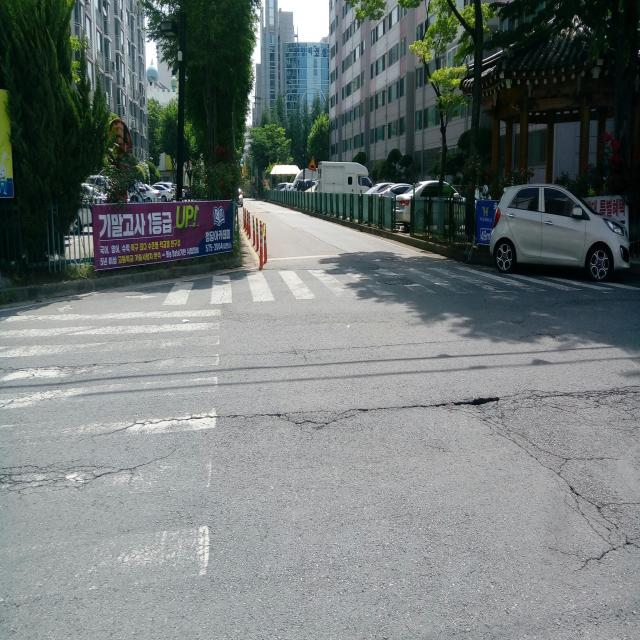횡단보도: (0, 300, 222, 584), (162, 264, 640, 307)
